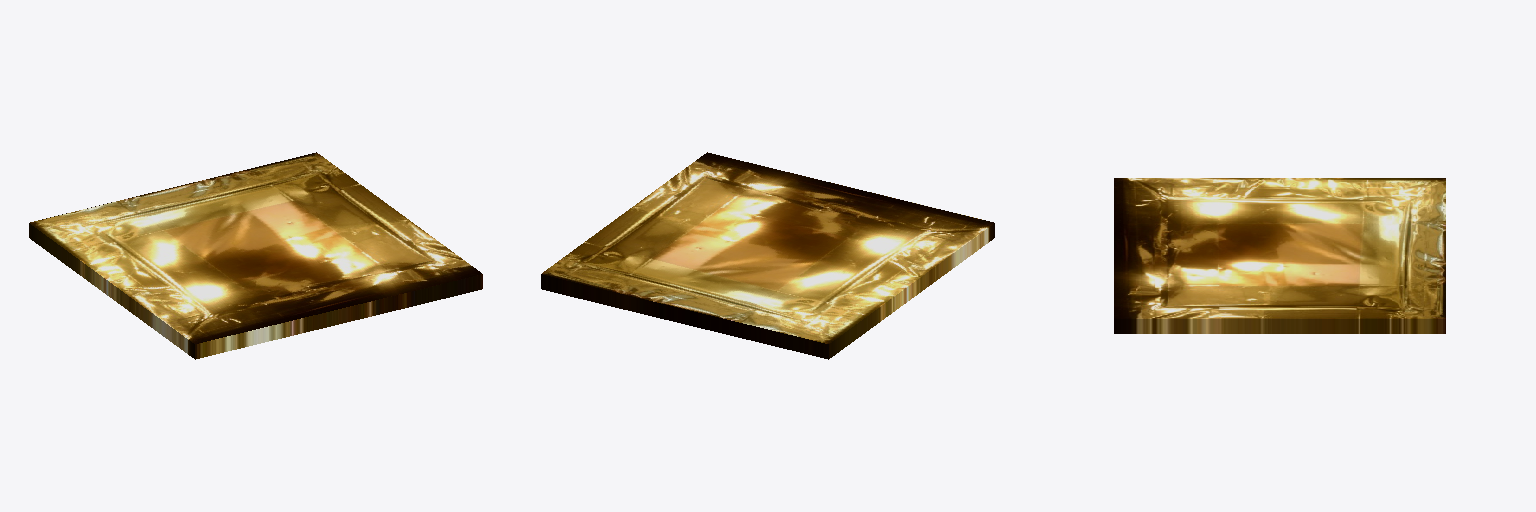
3 renders of one model, left to right at view 1: azimuth 30°, elevation 25°; view 2: azimuth 150°, elevation 25°; view 3: azimuth 270°, elevation 25°, orthographic.
Bounding box in the file's own units: 0.4 × 0.02 × 0.4.
1 materials, 1 textured.